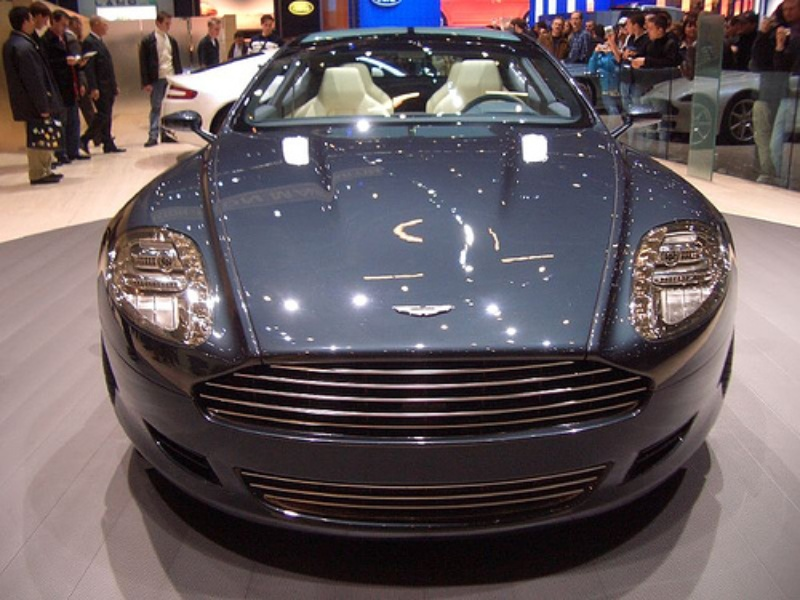car: (96, 27, 738, 568), (158, 49, 279, 145)
person: (4, 6, 65, 184), (83, 18, 124, 155), (140, 11, 181, 146), (42, 9, 70, 169), (631, 17, 677, 66), (605, 15, 648, 67), (537, 17, 570, 60), (199, 18, 224, 71), (248, 15, 282, 51), (569, 12, 591, 62), (226, 33, 248, 59)
